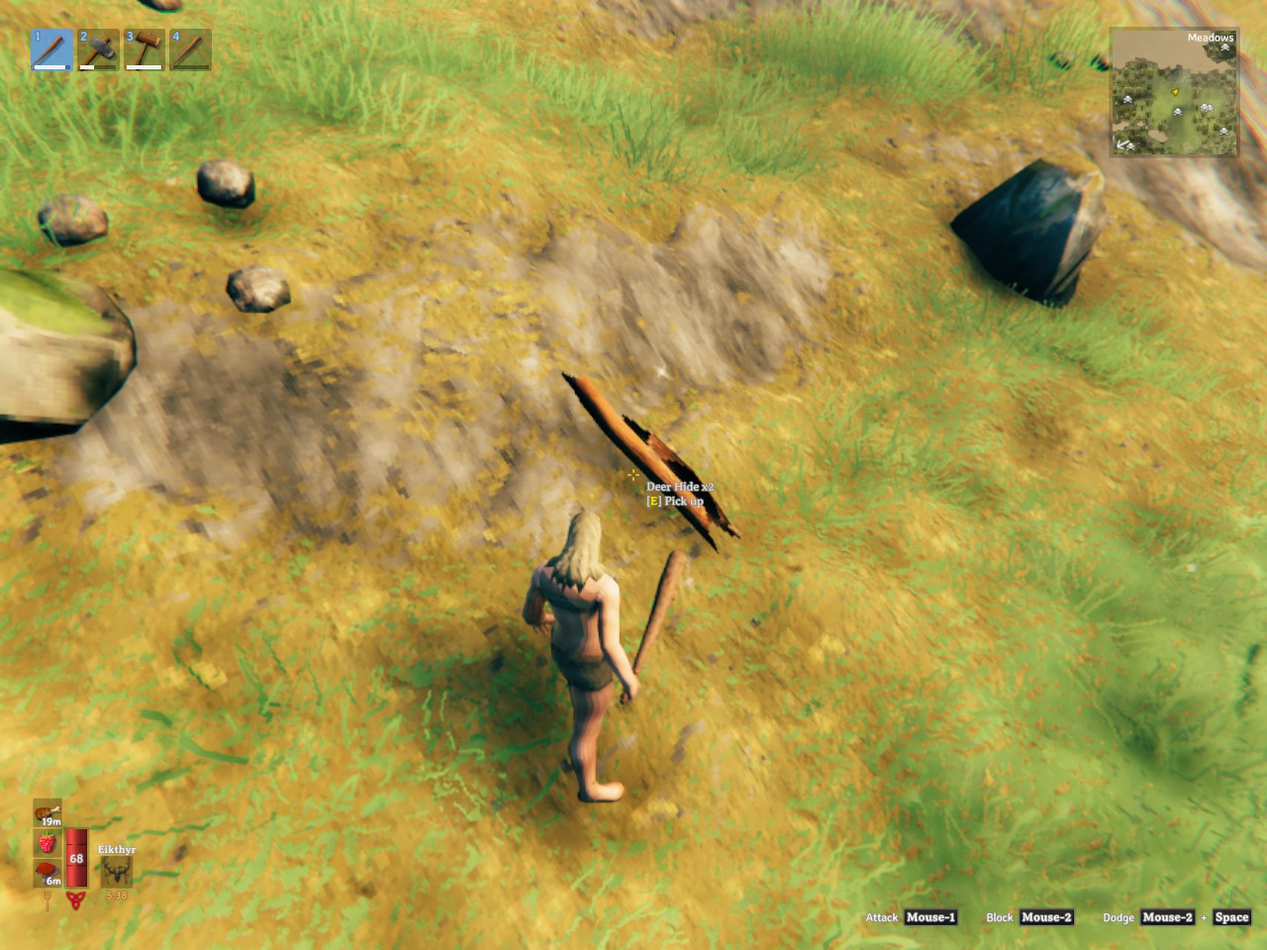Club: (534, 648, 657, 749)
Deer Hide: (602, 334, 820, 478)
Food Indicator: (36, 797, 63, 891)
Health Bar: (63, 826, 90, 891)
Hotbar: (25, 21, 398, 78)
